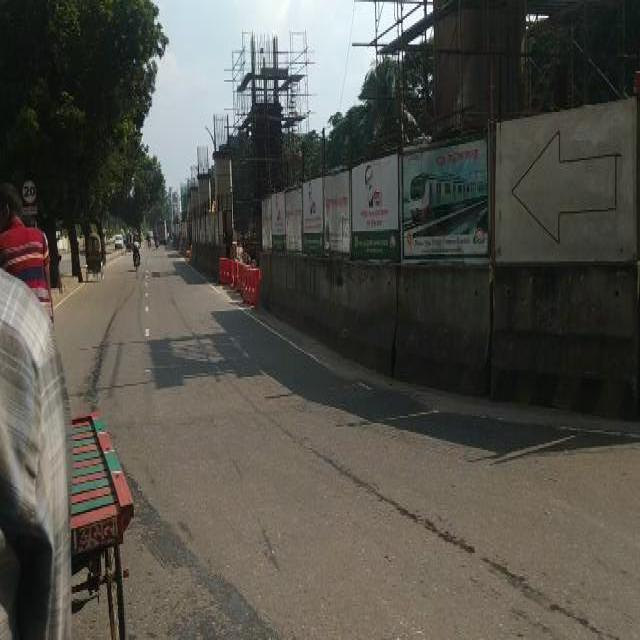bus: (154, 217, 166, 242)
motorbike: (132, 250, 140, 269)
rickshaw: (85, 230, 104, 278), (124, 231, 132, 253)
wheelbarrow: (69, 404, 135, 638)
